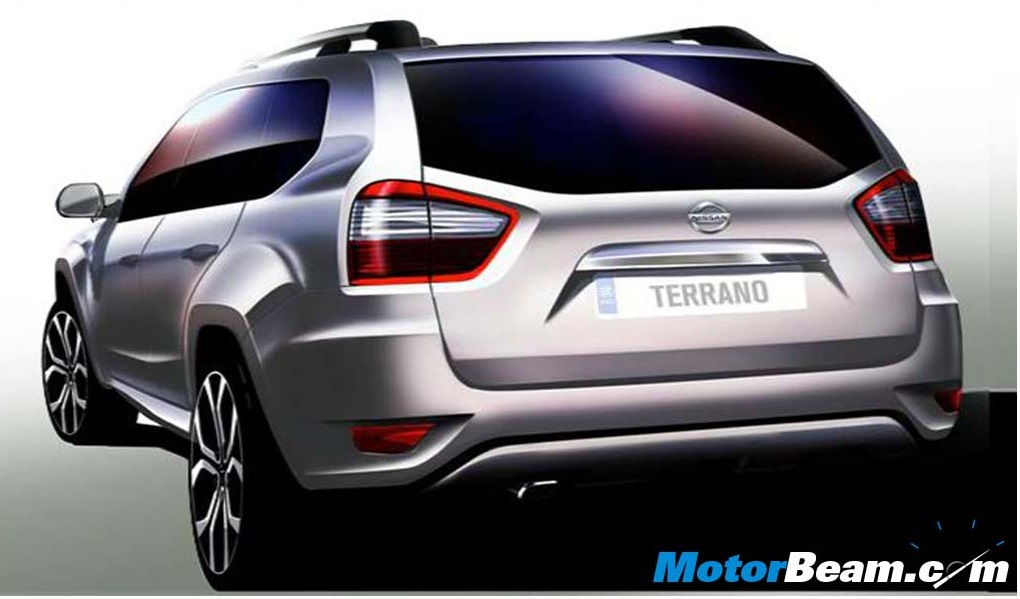TERRANO: (595, 264, 808, 317)
